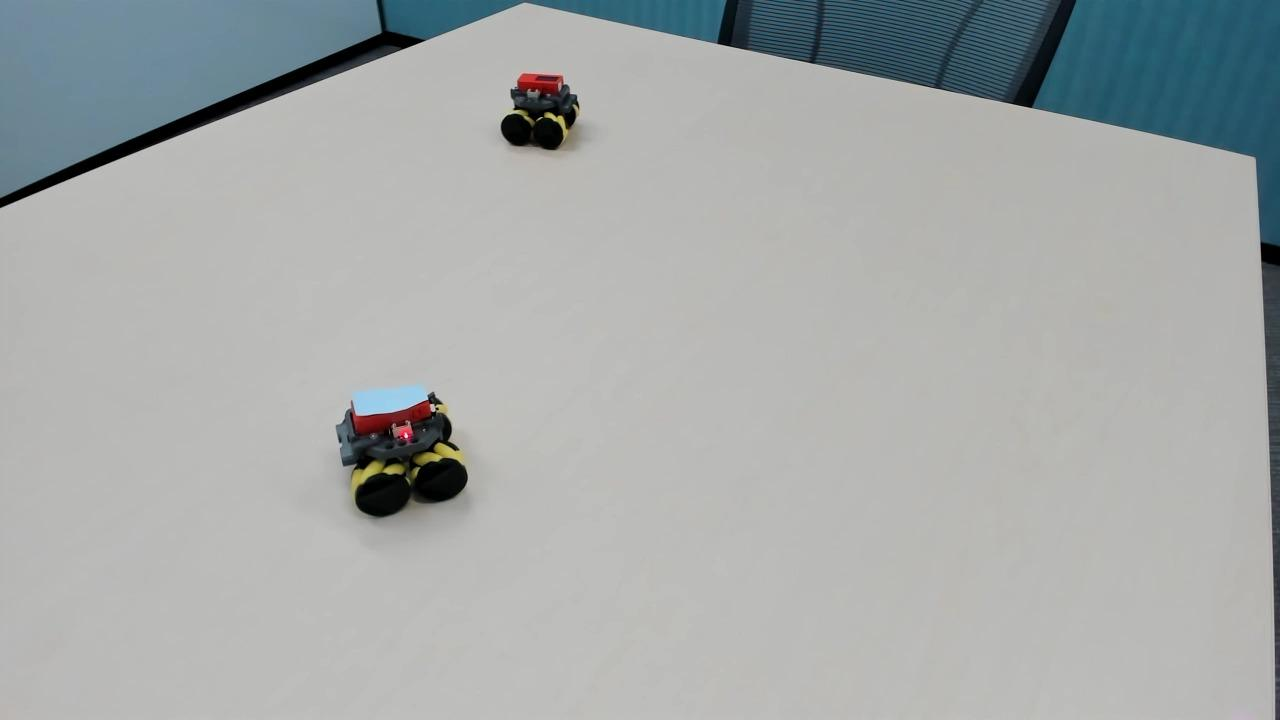B-Robot: (324, 369, 481, 523)
R-Robot: (501, 64, 586, 163)
